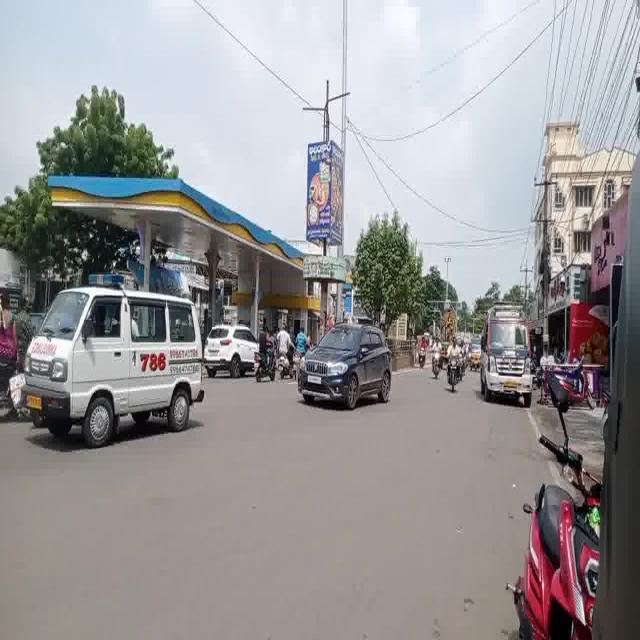ambulance: (21, 252, 220, 442), (475, 292, 540, 418)
